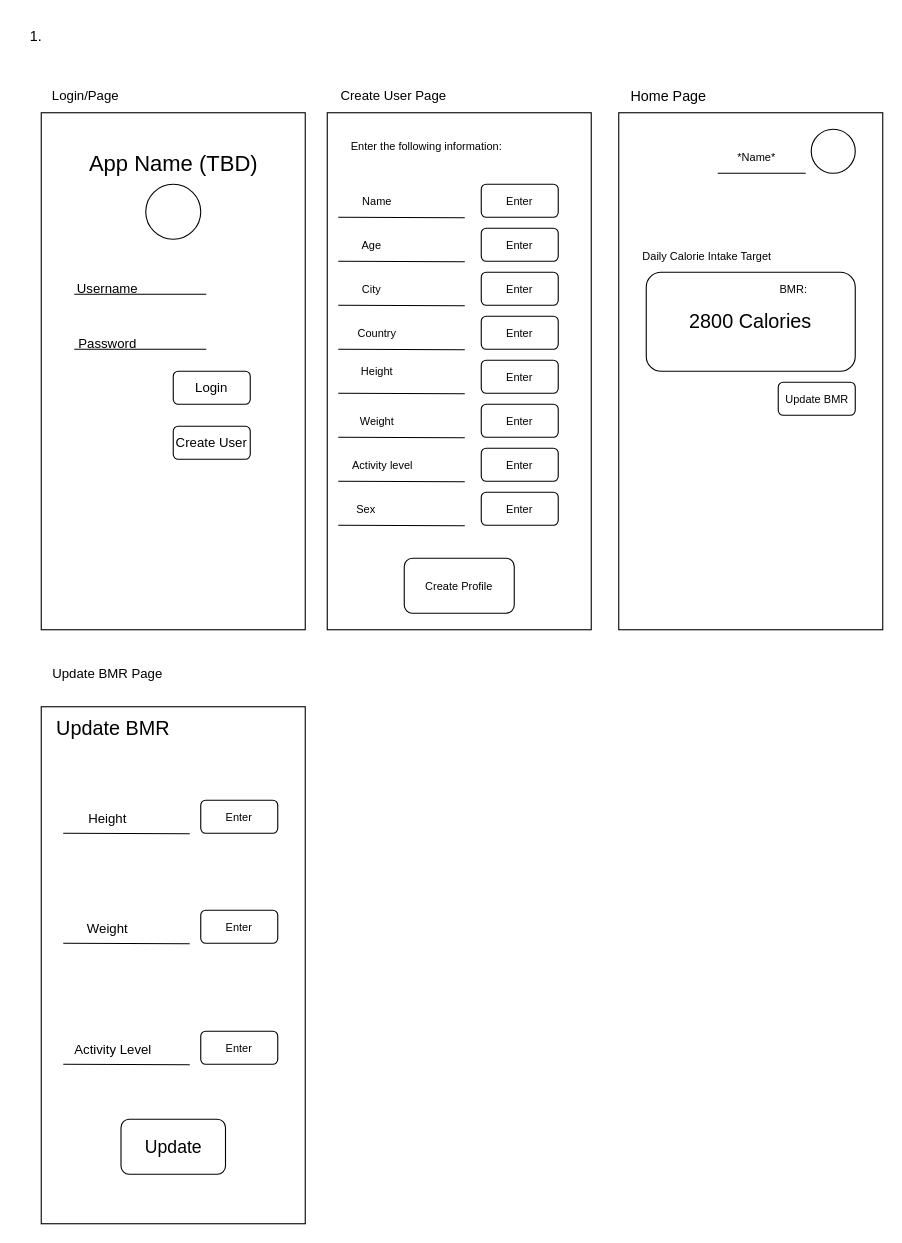
The diagram is 902 pixels wide and 1243 high, and some of its shapes have lost their labels. The shapes that lost their labels are listed below. From the top down, each one's centre as x and y in pixels, then its label:
At pixel 832 150: "User picture".
At pixel 173 211: "Logo".
